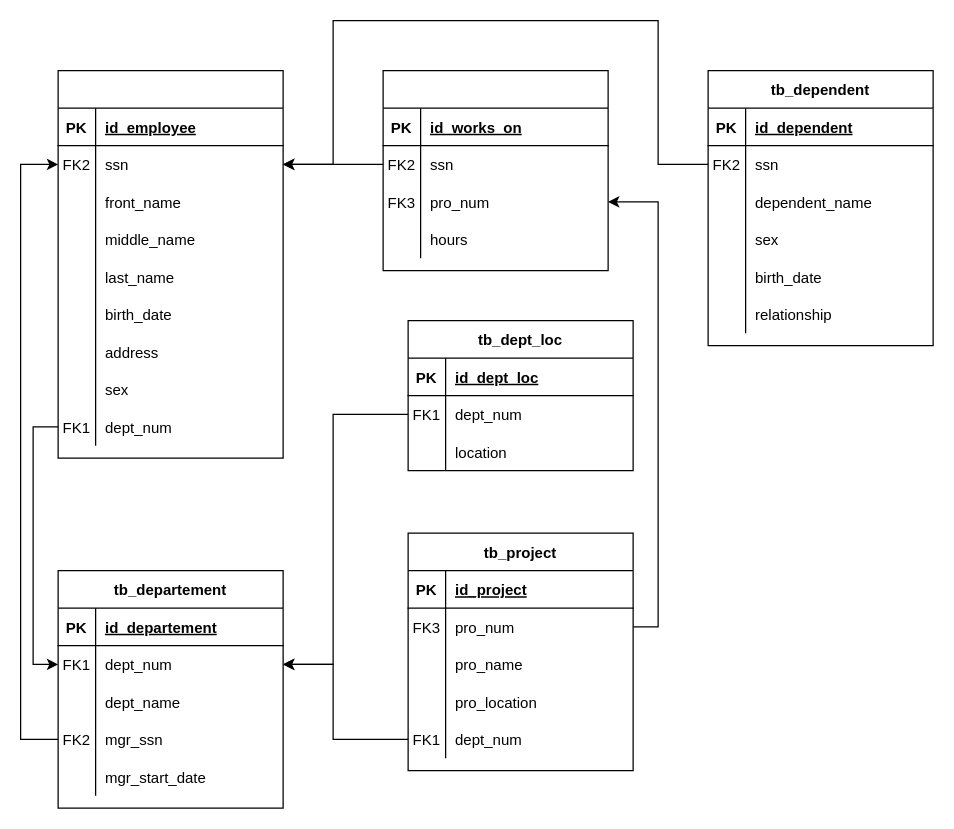
The diagram is 954 pixels wide and 829 high, and some of its shapes have lost their labels. The box of each missing label's shape, as (x1, y1, x2, y2) in pixels:
tb_employee: (57, 69, 283, 458)
tb_works_on: (382, 69, 608, 271)
